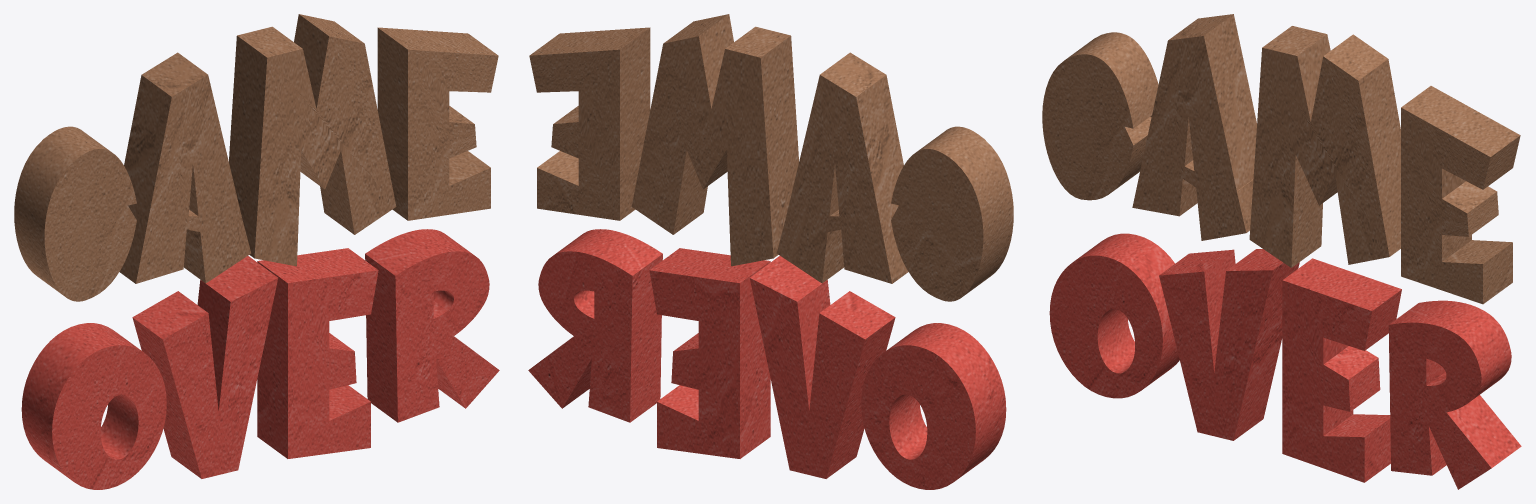
File: GameOverTexturedText.fbx
The picture shows the model from 3 angles, left to right: view 1: azimuth 30°, elevation 25°; view 2: azimuth 150°, elevation 25°; view 3: azimuth 330°, elevation 25°; orthographic projection.
Parts seen in each view (by area): view 1: polySurface3, polySurface2, polySurface6, polySurface7, polySurface8, polySurface5, polySurface4, polySurface1; view 2: polySurface3, polySurface2, polySurface6, polySurface7, polySurface8, polySurface5, polySurface4, polySurface1; view 3: polySurface3, polySurface7, polySurface2, polySurface4, polySurface8, polySurface6, polySurface5, polySurface1.
Boxes of the visible parts, bbox=[...] form: polySurface3: bbox=[229, 14, 396, 266]; polySurface2: bbox=[119, 52, 251, 283]; polySurface6: bbox=[132, 256, 277, 478]; polySurface7: bbox=[257, 248, 378, 458]; polySurface8: bbox=[365, 229, 499, 422]; polySurface5: bbox=[21, 323, 166, 489]; polySurface4: bbox=[377, 27, 498, 220]; polySurface1: bbox=[14, 126, 136, 301]; polySurface3: bbox=[631, 14, 798, 266]; polySurface2: bbox=[776, 52, 908, 283]; polySurface6: bbox=[750, 256, 895, 478]; polySurface7: bbox=[649, 248, 770, 458]; polySurface8: bbox=[528, 229, 662, 422]; polySurface5: bbox=[861, 323, 1006, 489]; polySurface4: bbox=[529, 27, 650, 220]; polySurface1: bbox=[891, 126, 1013, 301]; polySurface3: bbox=[1249, 26, 1400, 267]; polySurface7: bbox=[1282, 258, 1401, 482]; polySurface2: bbox=[1132, 14, 1256, 240]; polySurface4: bbox=[1401, 86, 1520, 304]; polySurface8: bbox=[1388, 300, 1521, 489]; polySurface6: bbox=[1159, 249, 1299, 440]; polySurface5: bbox=[1049, 233, 1179, 398]; polySurface1: bbox=[1042, 32, 1158, 200].
Bounding box in the file's own units: 38.37 × 33.98 × 4.43.
